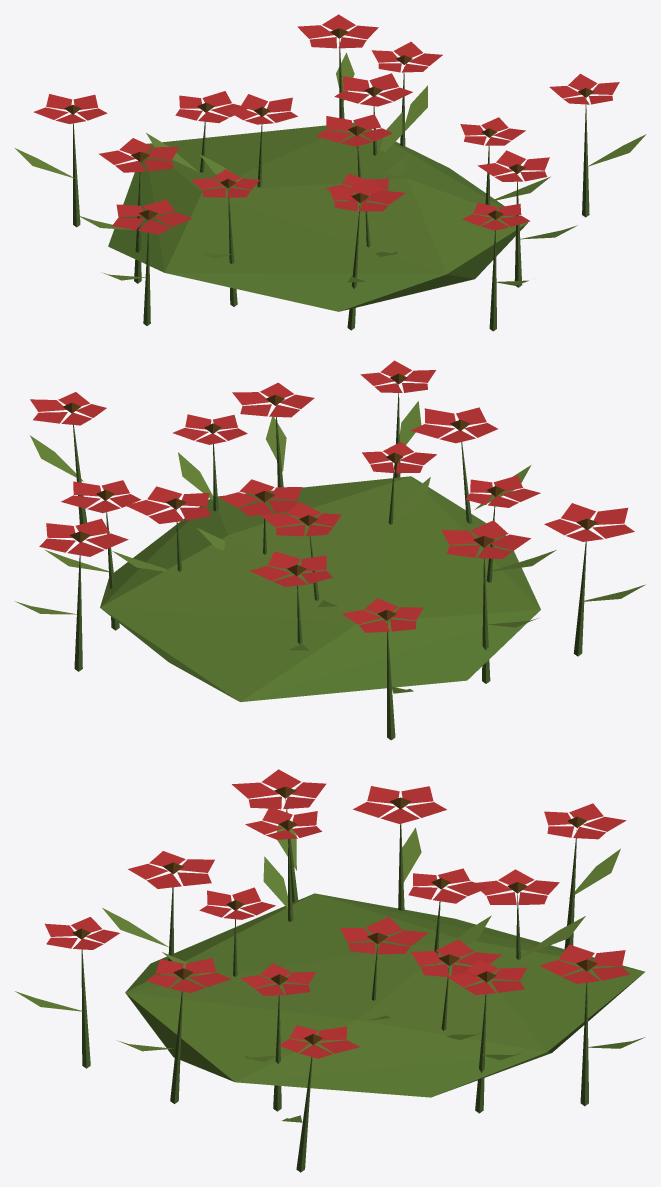
The model's file is FlowerB.glb.
The picture shows the model from 3 angles, top to bottom: view 1: azimuth 30°, elevation 25°; view 2: azimuth 150°, elevation 25°; view 3: azimuth 270°, elevation 25°; orthographic projection. The views are drawn at different scales.
Visible parts, largest first — view 1: FlowerB_LOD0; view 2: FlowerB_LOD0; view 3: FlowerB_LOD0.
Part boxes in pixels (x1,y1,x2,y2): FlowerB_LOD0: [15, 14, 646, 331]; FlowerB_LOD0: [15, 360, 645, 740]; FlowerB_LOD0: [15, 769, 645, 1172].
Size of what is drawn, in the model's own units: 2.35 by 0.5394 by 2.05.
